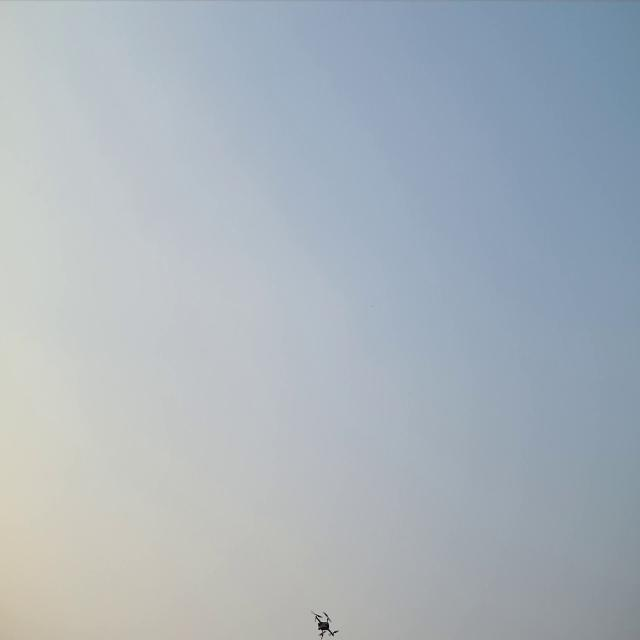UAV: (308, 606, 342, 640)
